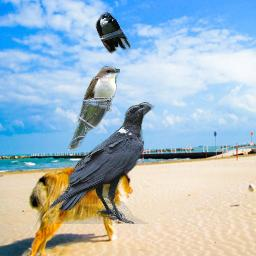Crow: (48, 101, 155, 224)
Cuckoo: (67, 65, 120, 151)
Swallow: (95, 11, 132, 55)
